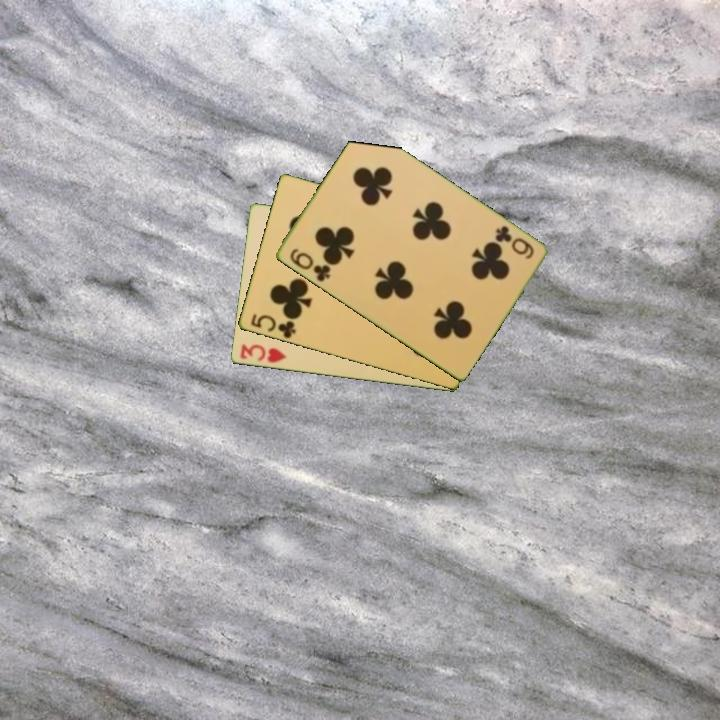3h: (236, 341, 289, 366)
5c: (247, 311, 299, 341)
6c: (286, 245, 333, 285), (491, 222, 536, 262)
